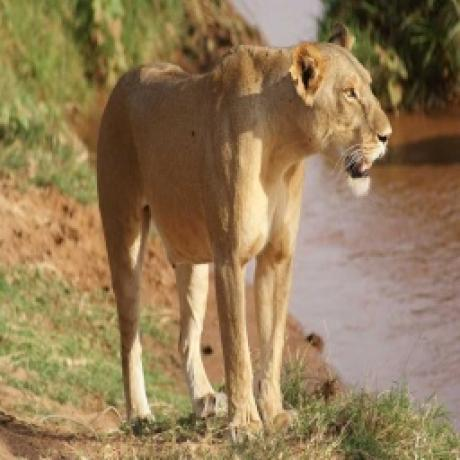Lion: (92, 22, 397, 446)
